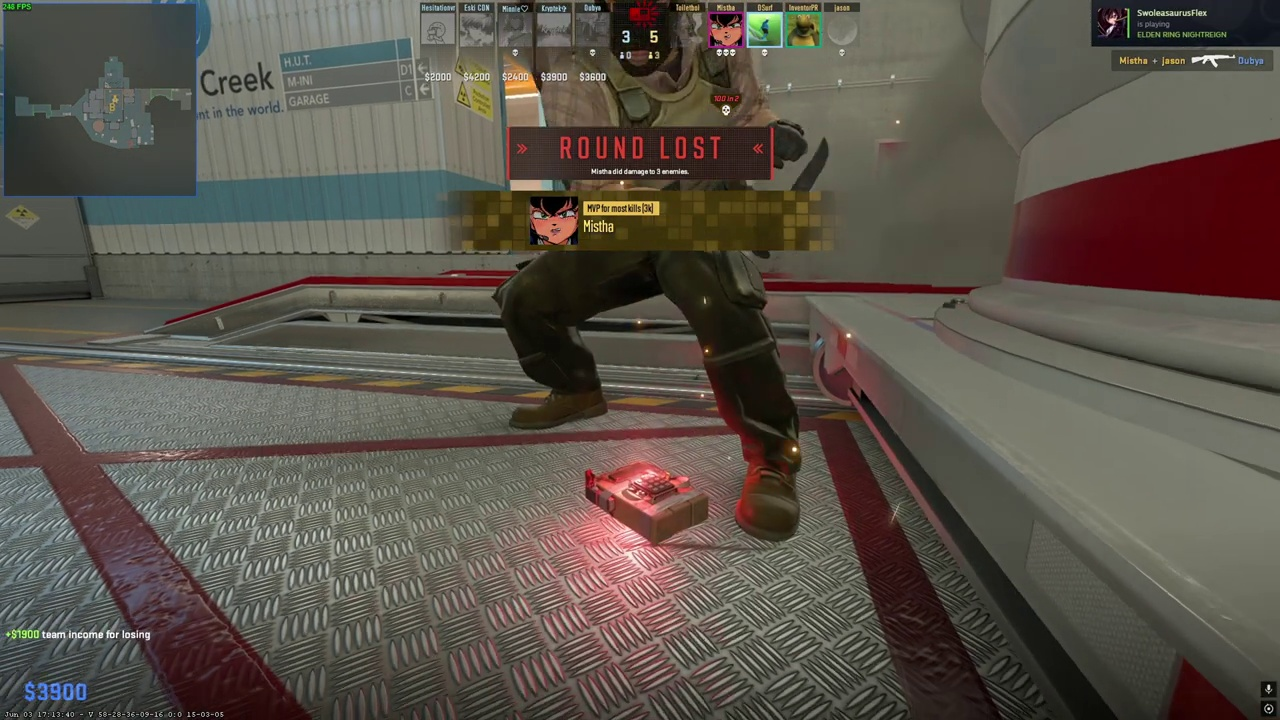Terrorist: (491, 1, 810, 536)
